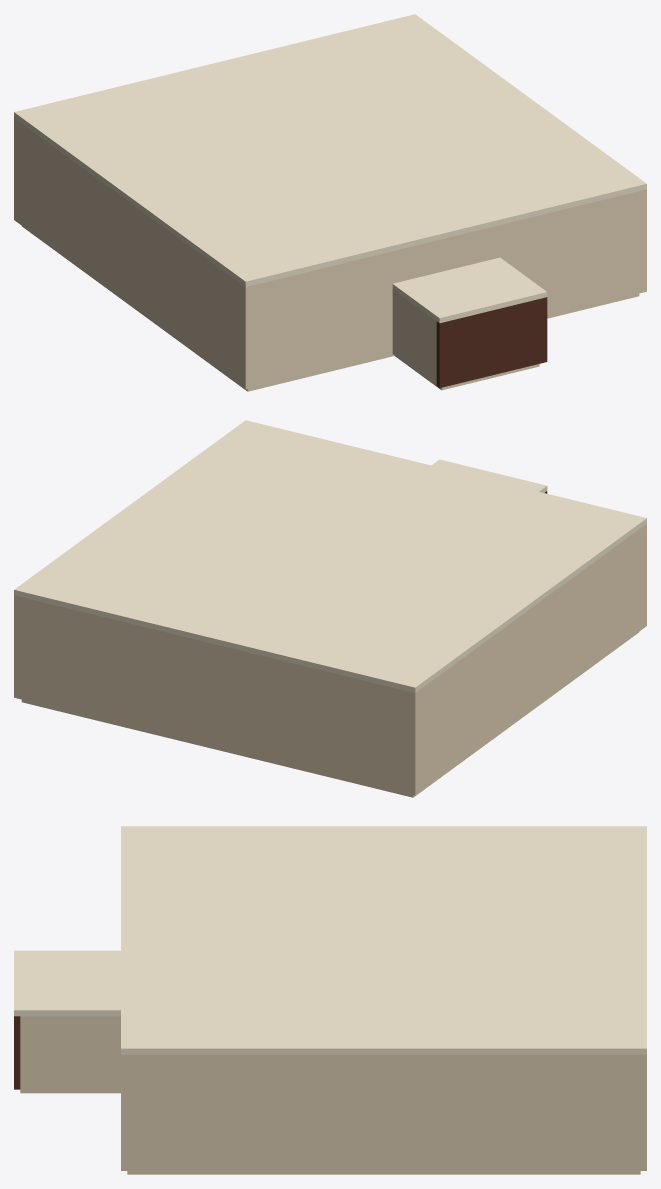
File: hall_263.glb
3 renders of one model, top to bottom at view 1: azimuth 30°, elevation 25°; view 2: azimuth 150°, elevation 25°; view 3: azimuth 270°, elevation 25°, orthographic. The views are drawn at different scales.
Parts seen in each view (by area): view 1: hall_263 ceiling, hall_263 wall, hall_263 wood, hall_263 floor; view 2: hall_263 ceiling, hall_263 wall, hall_263 floor; view 3: hall_263 ceiling, hall_263 wall, hall_263 floor, hall_263 wood.
Boxes of the visible parts, x1=… form: hall_263 ceiling: x1=14, y1=14, x2=646, y2=323; hall_263 wall: x1=14, y1=118, x2=646, y2=389; hall_263 wood: x1=436, y1=297, x2=547, y2=388; hall_263 floor: x1=22, y1=226, x2=639, y2=391; hall_263 ceiling: x1=14, y1=420, x2=646, y2=692; hall_263 wall: x1=14, y1=524, x2=646, y2=795; hall_263 floor: x1=21, y1=632, x2=638, y2=797; hall_263 ceiling: x1=14, y1=826, x2=646, y2=1054; hall_263 wall: x1=20, y1=1016, x2=646, y2=1170; hall_263 floor: x1=20, y1=1089, x2=640, y2=1174; hall_263 wood: x1=14, y1=1016, x2=20, y2=1089.
Size of what is drawn, in the model's own units: 24.6 by 6.64 by 29.6.
